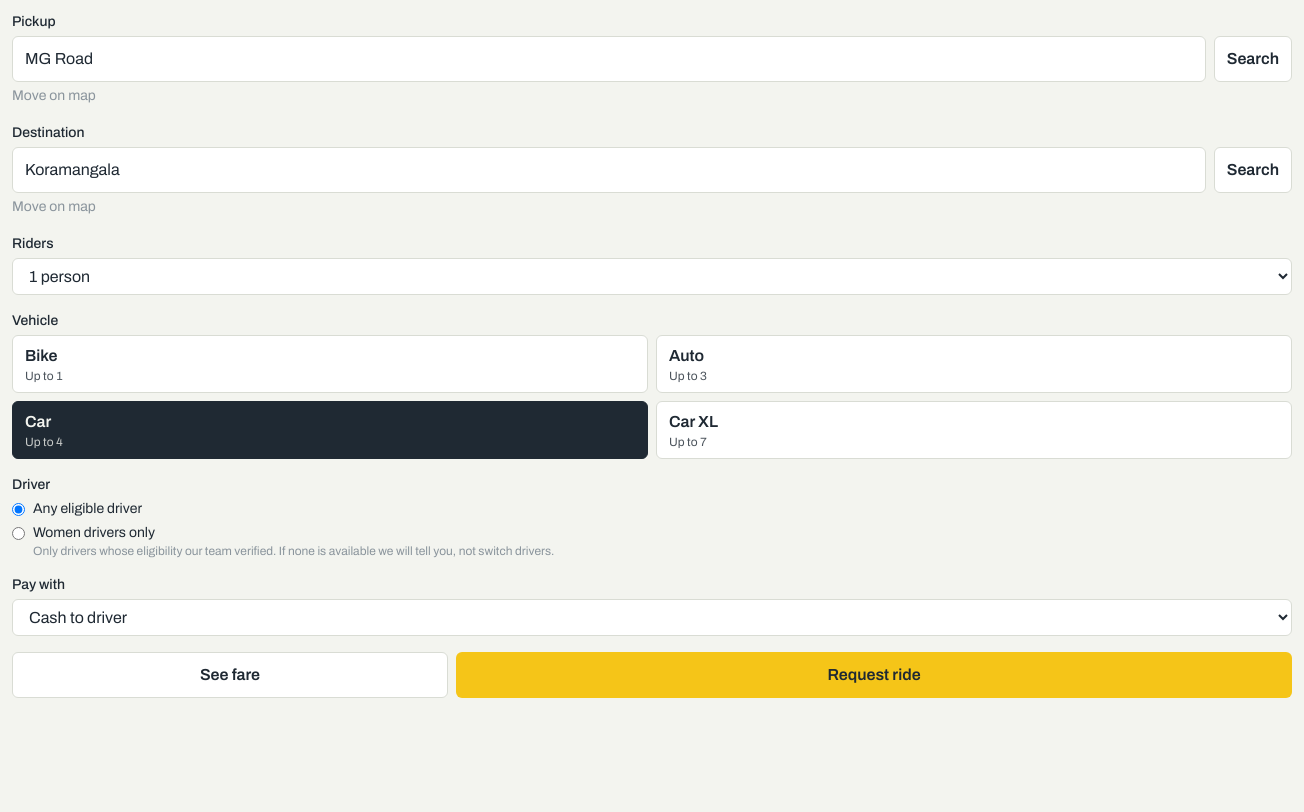
it: Booking: vehicle types, capacity, preference › the estimate shows each vehicle option price
Expected: the text "Car XL" is shown, [669,413,718,430]
Click the button "See fare" at (230,675), box [12,652,448,698]
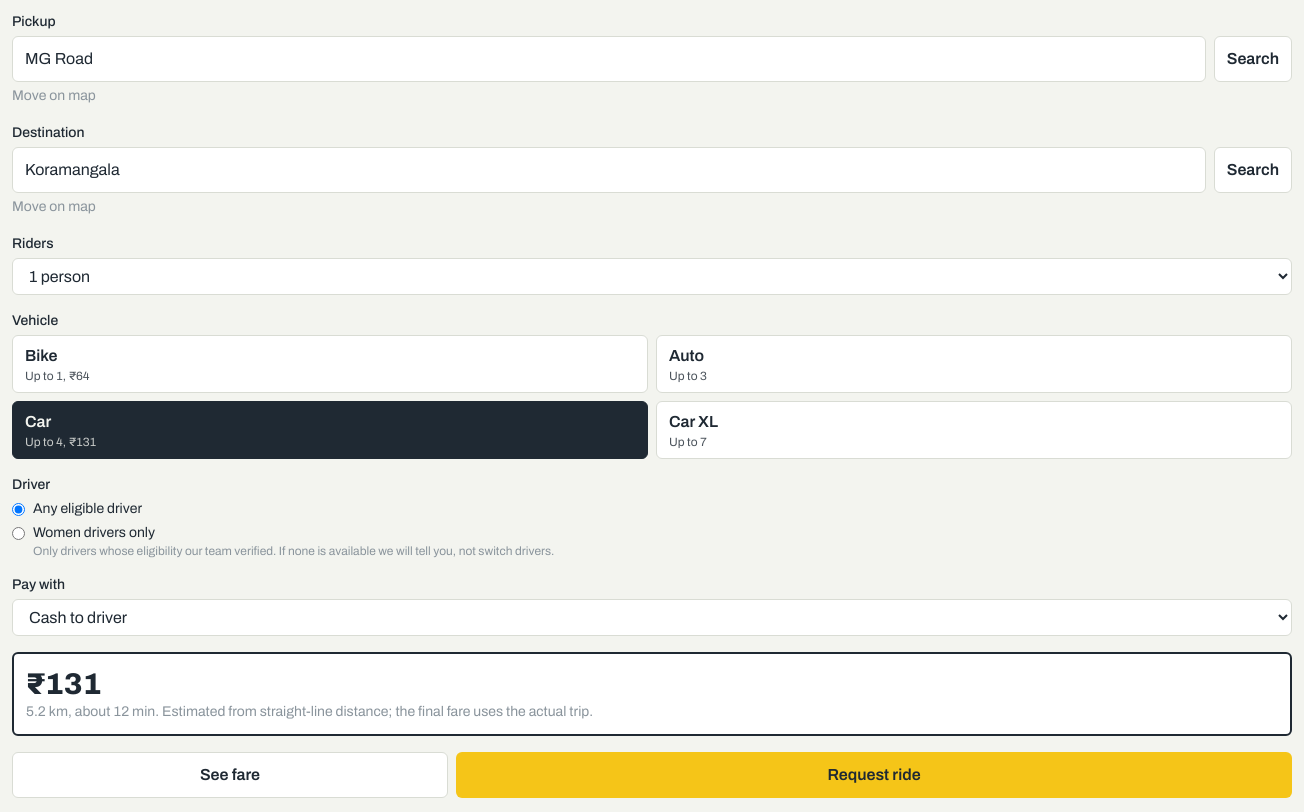
Expected: the text "Up to 1, ₹64" is shown, [25,369,90,383]
